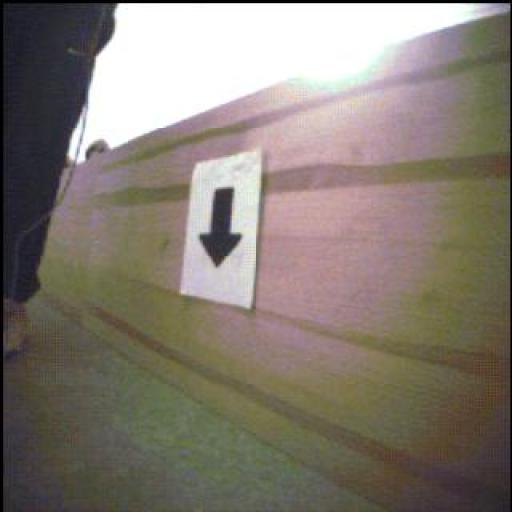Arrow: (201, 188, 243, 268)
